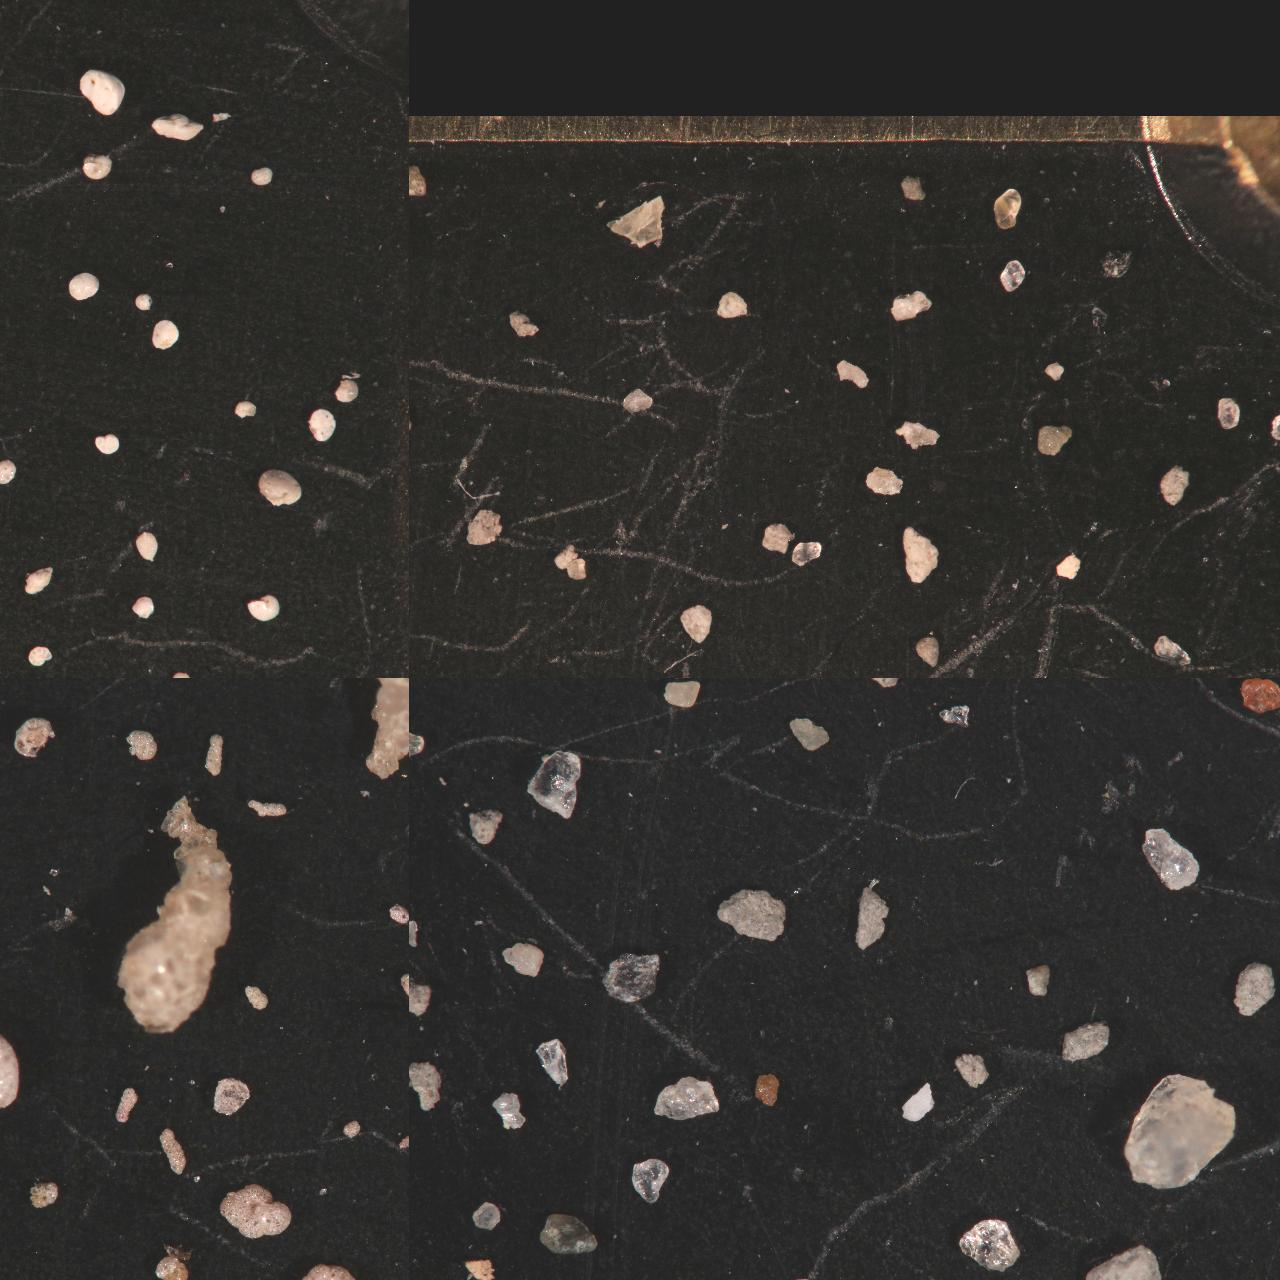Sediment: (1123, 1073, 1238, 1190), (524, 747, 584, 822), (1139, 825, 1201, 893), (715, 886, 787, 941), (651, 1073, 722, 1123), (598, 948, 662, 1003), (958, 1219, 1022, 1273), (606, 193, 667, 248), (1083, 1244, 1160, 1280), (855, 876, 892, 948), (538, 1212, 599, 1257), (409, 354, 442, 434), (1231, 962, 1278, 1017), (900, 525, 940, 585), (626, 1157, 674, 1203), (1062, 1023, 1112, 1065), (533, 1035, 572, 1089), (409, 1058, 445, 1111), (499, 940, 546, 979), (788, 715, 832, 755), (856, 678, 905, 712), (678, 602, 716, 645), (899, 1080, 938, 1122), (490, 1089, 527, 1132), (465, 806, 506, 845), (1238, 678, 1280, 715), (409, 971, 442, 1017), (892, 418, 941, 449), (990, 186, 1024, 230), (886, 291, 933, 321), (467, 508, 503, 546), (953, 1051, 992, 1088), (1152, 634, 1193, 668), (1159, 464, 1192, 505), (661, 678, 702, 709), (692, 678, 756, 697), (863, 465, 906, 495), (1032, 678, 1083, 702), (1035, 423, 1073, 456), (760, 522, 795, 554), (835, 359, 872, 388), (409, 826, 436, 866), (791, 539, 825, 568), (508, 308, 542, 338), (937, 701, 972, 729), (469, 1201, 502, 1231), (754, 1071, 781, 1107), (1000, 259, 1027, 293), (915, 634, 941, 669), (1218, 394, 1242, 430), (1023, 966, 1053, 996), (716, 292, 750, 318), (621, 387, 654, 413), (899, 173, 927, 203), (462, 1257, 495, 1280), (1057, 552, 1085, 579), (443, 678, 479, 697), (409, 520, 427, 557), (551, 544, 577, 568), (409, 286, 429, 316), (409, 164, 428, 195), (409, 730, 428, 760), (409, 587, 423, 622), (409, 592, 425, 621), (567, 558, 588, 580), (409, 383, 425, 411), (1043, 361, 1067, 380), (409, 504, 425, 529), (409, 407, 423, 434), (409, 920, 422, 949), (1268, 413, 1280, 440), (409, 678, 430, 692)
agglutinated: (118, 797, 232, 1032), (0, 1020, 49, 1108), (366, 678, 409, 776), (219, 1183, 293, 1237), (0, 981, 50, 1032), (13, 717, 55, 757), (215, 1078, 250, 1116), (159, 1129, 188, 1173), (298, 1264, 360, 1280), (125, 729, 157, 761), (154, 1257, 189, 1280), (204, 734, 224, 775), (116, 1087, 138, 1121), (29, 1182, 59, 1207), (248, 799, 287, 817), (0, 876, 21, 907), (244, 986, 268, 1008), (0, 917, 16, 947), (0, 904, 14, 934), (390, 903, 409, 922), (343, 1121, 362, 1137), (0, 1148, 13, 1170), (400, 973, 409, 998), (0, 678, 19, 689), (0, 781, 11, 801), (281, 678, 304, 686), (399, 1132, 409, 1148)
calcareous: (0, 470, 50, 552), (77, 68, 127, 116), (259, 469, 302, 508), (151, 113, 205, 142), (0, 280, 27, 324), (247, 593, 281, 622), (307, 409, 338, 441), (67, 272, 101, 300), (0, 444, 21, 488), (150, 319, 179, 349), (0, 356, 21, 399), (23, 566, 54, 593), (135, 531, 159, 563), (0, 98, 19, 137), (0, 535, 20, 571), (83, 154, 113, 178), (0, 46, 20, 77), (0, 591, 18, 626), (334, 379, 360, 402), (94, 434, 121, 455), (0, 626, 15, 662), (131, 597, 155, 620), (27, 646, 53, 667), (0, 32, 18, 62), (0, 173, 18, 204), (0, 74, 18, 104), (20, 0, 52, 16), (0, 263, 18, 292), (248, 166, 273, 186), (0, 207, 15, 239), (0, 341, 18, 368), (0, 0, 18, 26), (0, 525, 15, 554), (0, 459, 18, 484), (0, 98, 15, 127), (232, 401, 258, 417), (0, 158, 15, 184), (0, 154, 16, 177), (0, 461, 11, 492), (0, 527, 13, 553), (0, 232, 13, 258), (0, 302, 13, 328), (135, 293, 154, 311), (0, 148, 13, 172), (0, 30, 13, 55), (0, 307, 13, 332), (0, 256, 13, 278), (0, 0, 19, 15), (0, 410, 12, 433), (0, 223, 12, 245), (0, 441, 11, 465), (0, 216, 11, 240), (0, 622, 12, 644), (0, 477, 11, 501), (0, 45, 12, 64), (0, 607, 11, 628), (0, 0, 18, 12), (0, 220, 11, 238), (0, 649, 11, 666), (170, 670, 192, 678), (0, 663, 11, 678), (0, 0, 13, 11), (0, 0, 11, 11)
